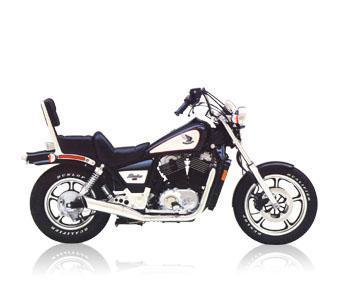motorcycle: (19, 82, 326, 254)
